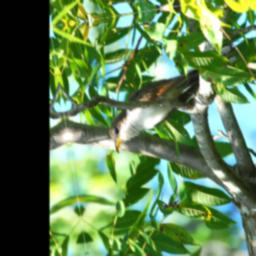Cuckoo: (101, 69, 209, 155)
